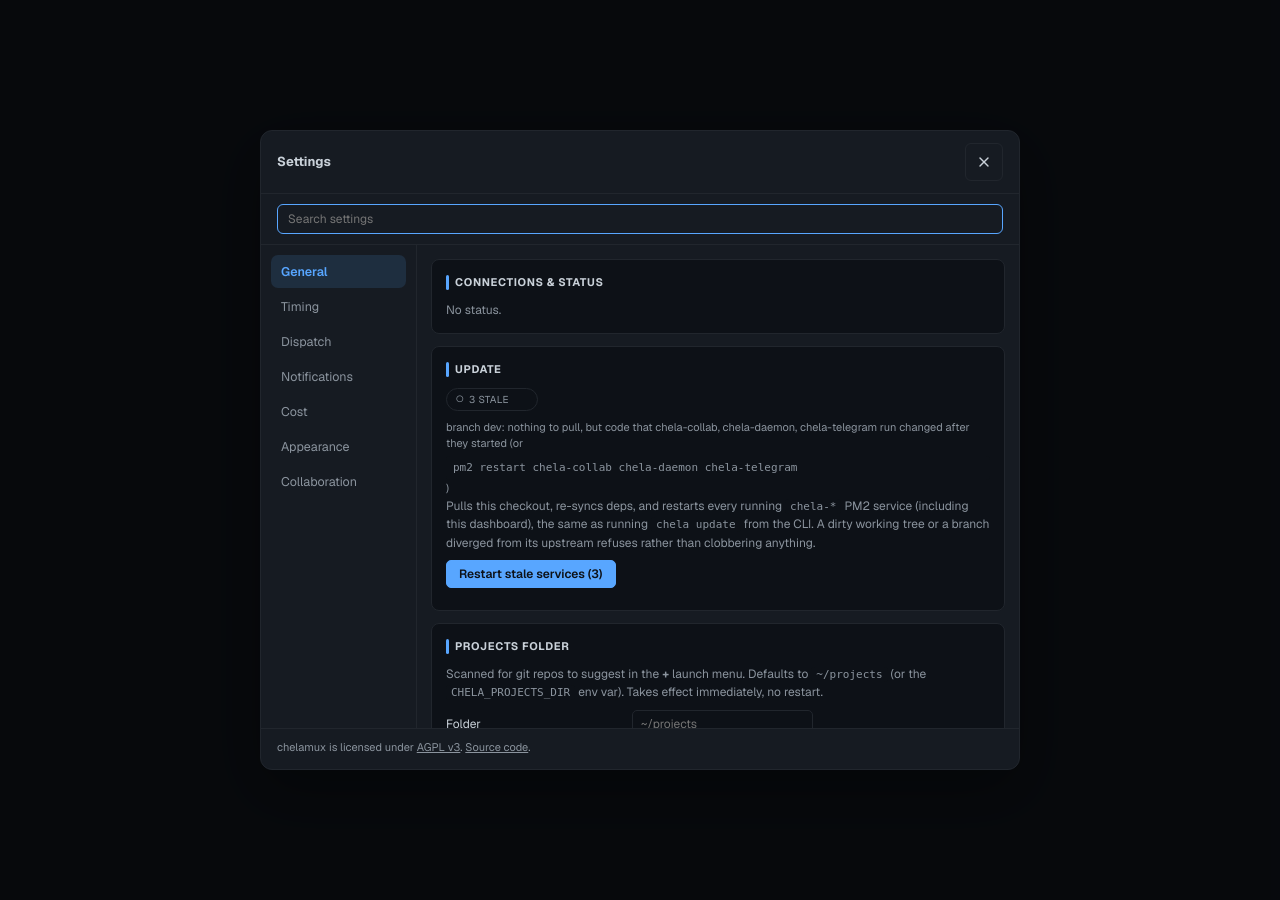
Test: Restart says what it is restarting, follows the poll, then states the outcome
The image size is (1280, 900).
Click the button with id "update-apply-btn": (531, 574) [446,560,616,588]
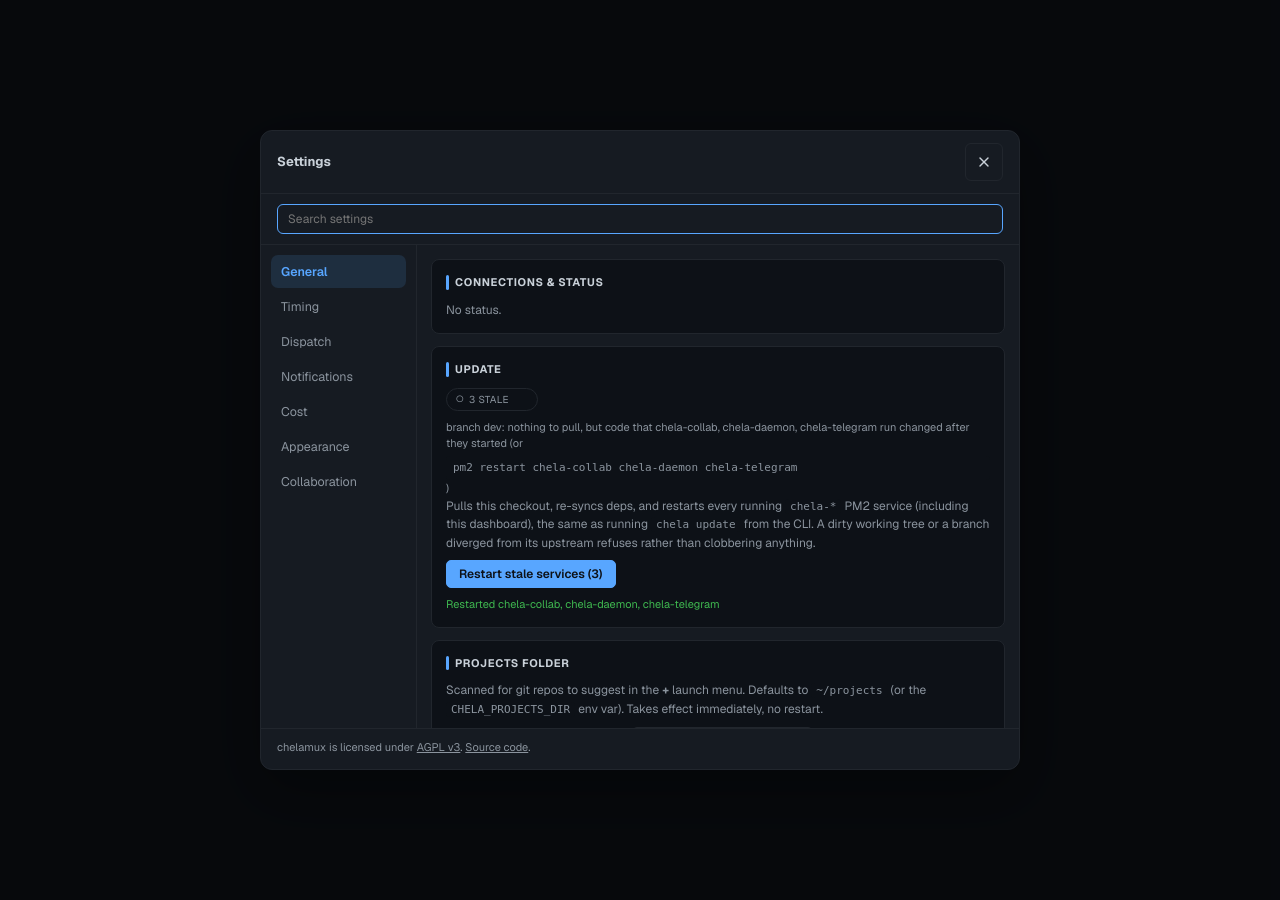
Now the text with id "update-apply-msg" reads "Restarted chela-collab, chela-daemon, chela-telegram", box [446,597,720,611]
